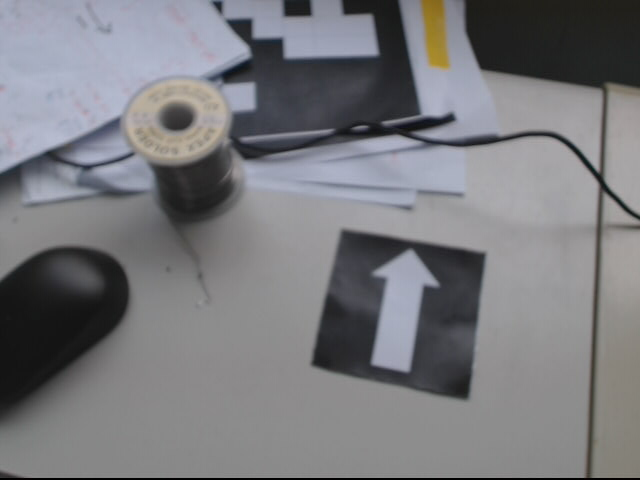straight: (310, 228, 488, 401)
